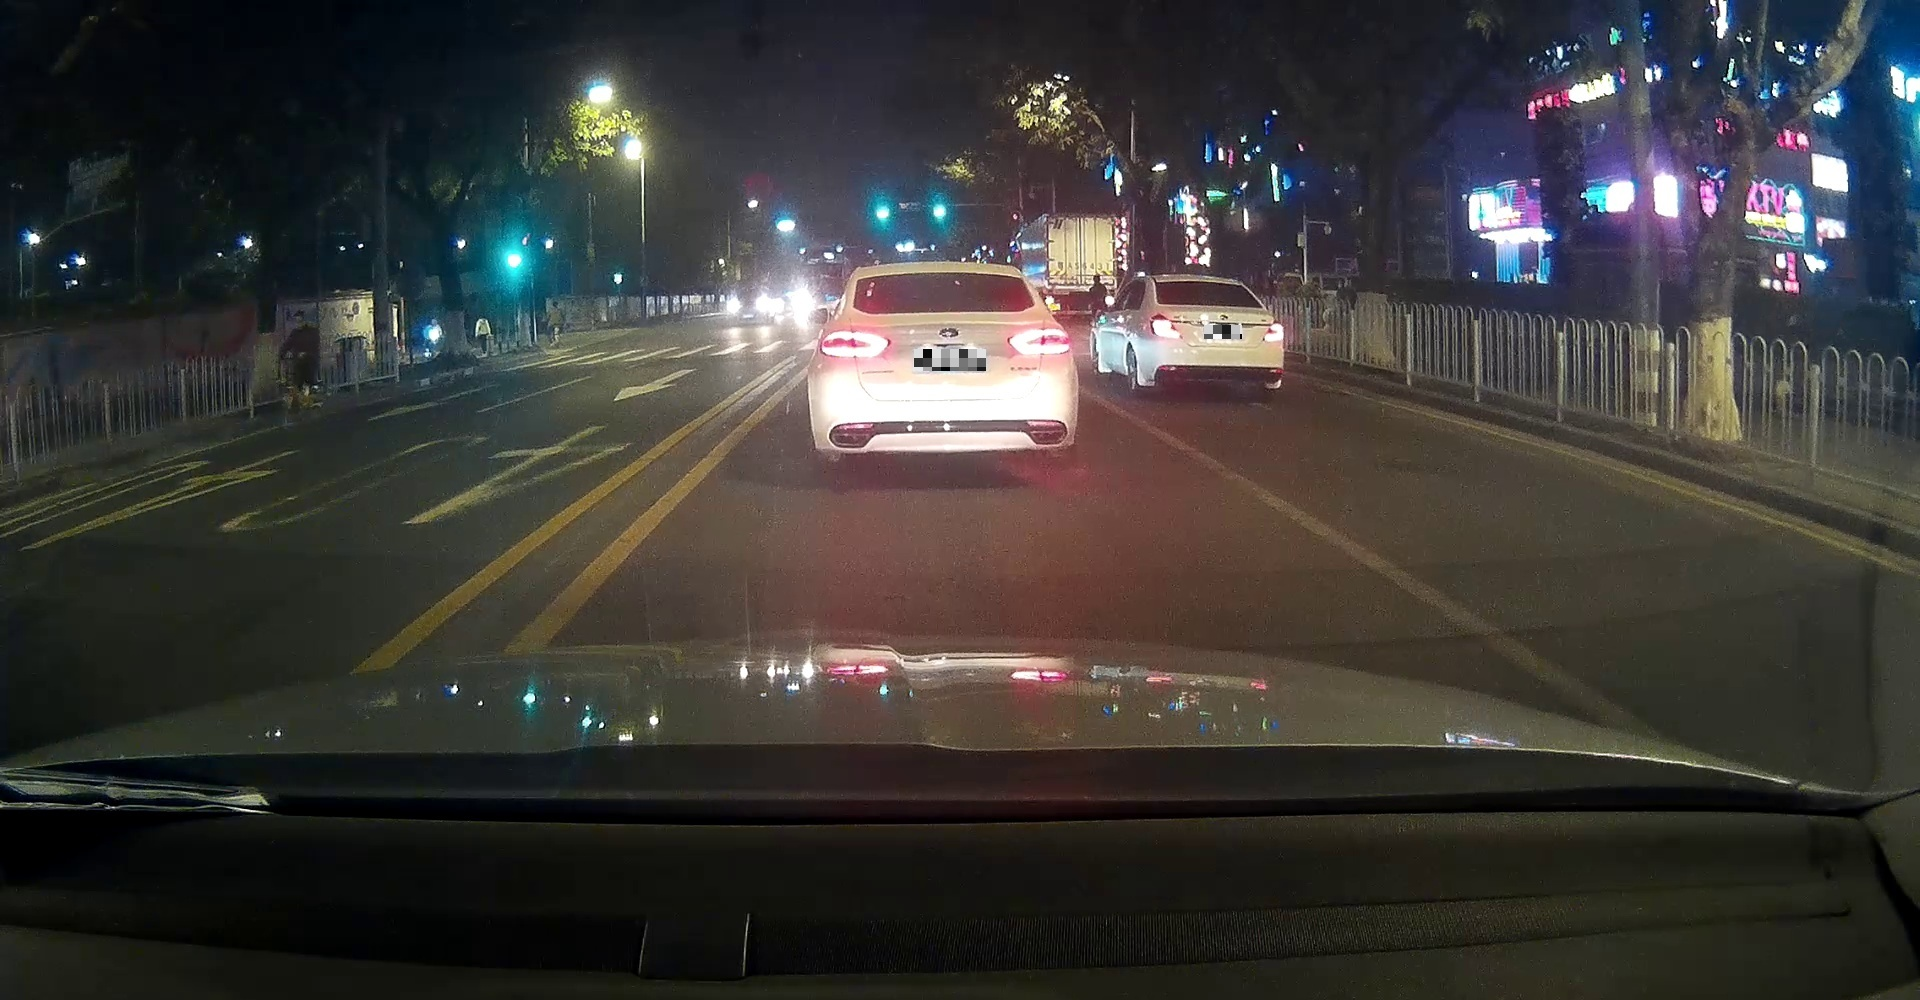L_light: (819, 330, 889, 358), (1149, 312, 1182, 340)
R_light: (1007, 326, 1070, 354), (1262, 320, 1284, 343)
T_light: (924, 272, 951, 277), (1192, 279, 1210, 286)
night-no: (808, 261, 1077, 466), (1140, 274, 1285, 391)
plate_1: (914, 349, 985, 371)
plate_2: (1204, 325, 1242, 339)
